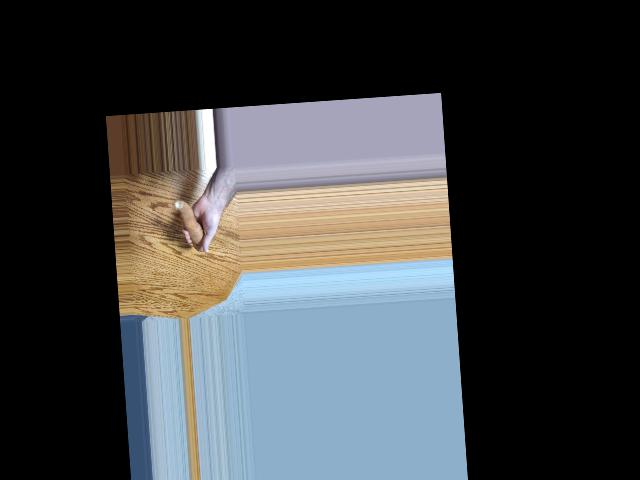sweet_potato: (175, 196, 207, 252)
